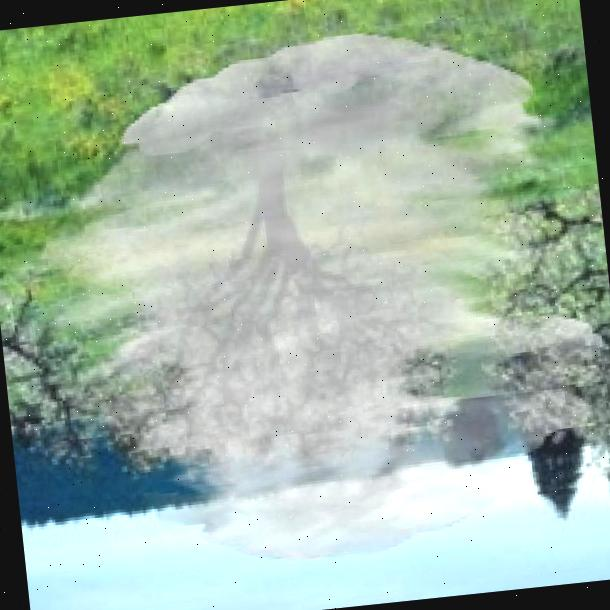smoke: (11, 11, 610, 587)
